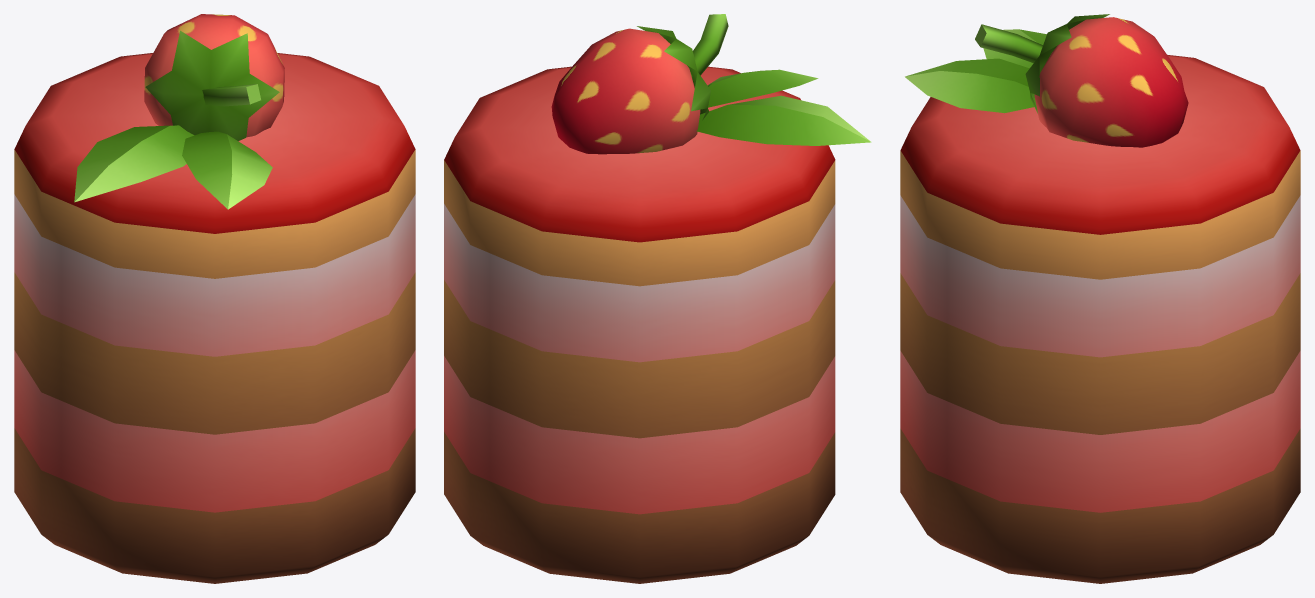
Rendered from m_MiniCake03.fbx.
3 renders of one model, left to right at view 1: azimuth 30°, elevation 25°; view 2: azimuth 150°, elevation 25°; view 3: azimuth 270°, elevation 25°, orthographic. The views are drawn at different scales.
Parts seen in each view (by area): view 1: m_MiniCake03; view 2: m_MiniCake03; view 3: m_MiniCake03.
Boxes of the visible parts, x1,y1,x2,y2 form: m_MiniCake03: (14, 14, 415, 583); m_MiniCake03: (444, 14, 871, 583); m_MiniCake03: (900, 14, 1300, 583).
Size of the model in its own units: 11.85 by 15.13 by 11.34.
